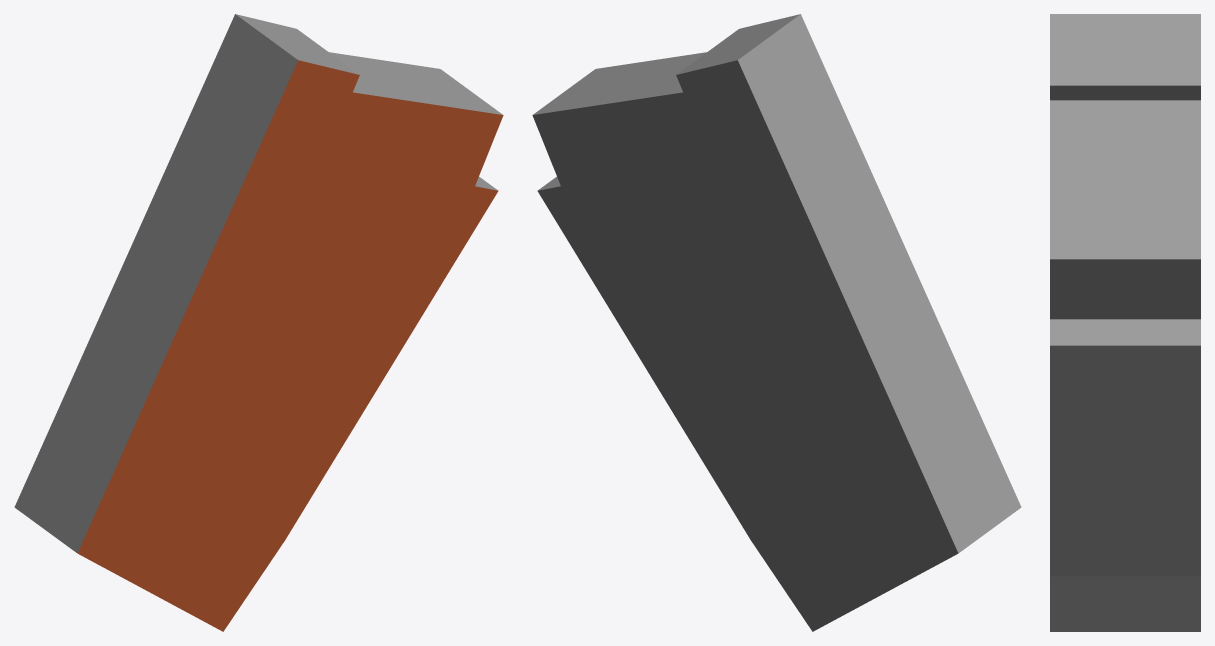
File: construction_0369_assumed_A_Casa_h6m.obj
3 renders of one model, left to right at view 1: azimuth 30°, elevation 25°; view 2: azimuth 150°, elevation 25°; view 3: azimuth 270°, elevation 25°, orthographic. The views are drawn at different scales.
Parts seen in each view (by area): view 1: construction_0369_assumed_A_Casa; view 2: construction_0369_assumed_A_Casa; view 3: construction_0369_assumed_A_Casa.
Boxes of the visible parts, x1,y1,x2,y2 form: construction_0369_assumed_A_Casa: (14, 14, 503, 631); construction_0369_assumed_A_Casa: (532, 14, 1021, 631); construction_0369_assumed_A_Casa: (1050, 14, 1200, 631).
Bounding box in the file's own units: 23.4 × 29.05 × 6.
